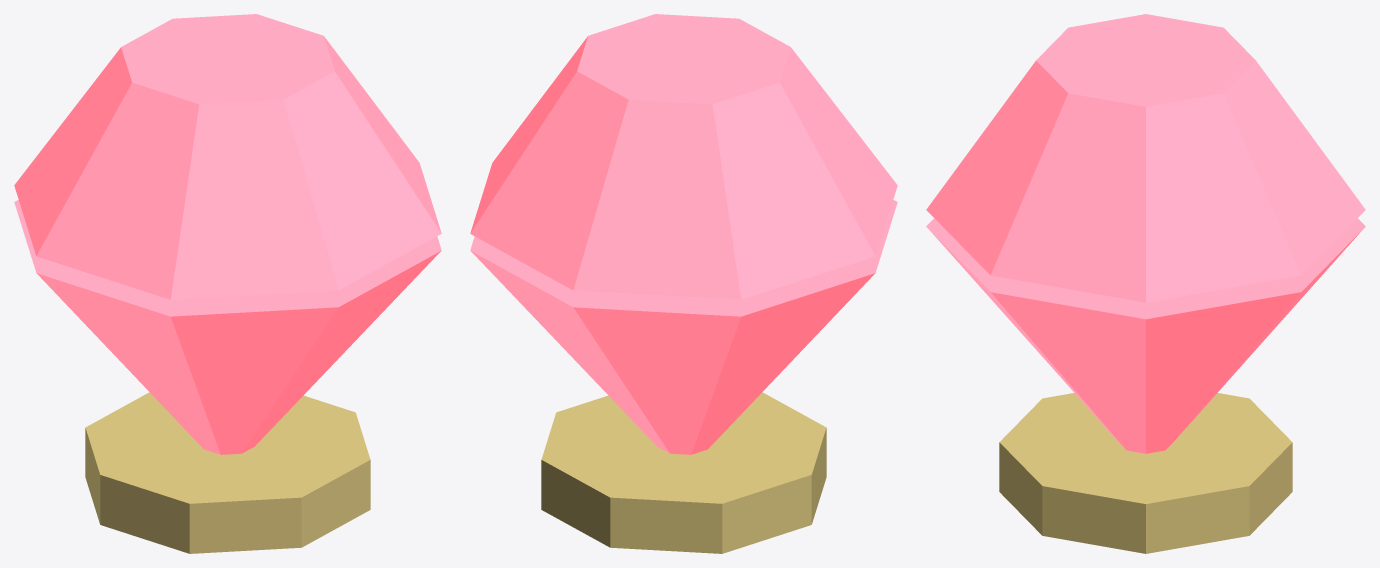
Rendered from item_diamond.glb.
The picture shows the model from 3 angles, left to right: view 1: azimuth 30°, elevation 25°; view 2: azimuth 150°, elevation 25°; view 3: azimuth 270°, elevation 25°; orthographic projection.
Parts seen in each view (by area): view 1: DiamondCrown, DiamondLower, DiamondBase; view 2: DiamondCrown, DiamondLower, DiamondBase; view 3: DiamondCrown, DiamondBase, DiamondLower.
Boxes of the visible parts, <box> form: DiamondCrown: <box>14,14,441,299</box>; DiamondLower: <box>14,200,441,454</box>; DiamondBase: <box>85,392,370,553</box>; DiamondCrown: <box>470,14,897,299</box>; DiamondLower: <box>470,200,897,454</box>; DiamondBase: <box>541,392,826,553</box>; DiamondCrown: <box>926,14,1365,302</box>; DiamondBase: <box>999,393,1292,553</box>; DiamondLower: <box>926,218,1365,453</box>.
Bounding box in the file's own units: 0.5077 × 0.55 × 0.5077.
